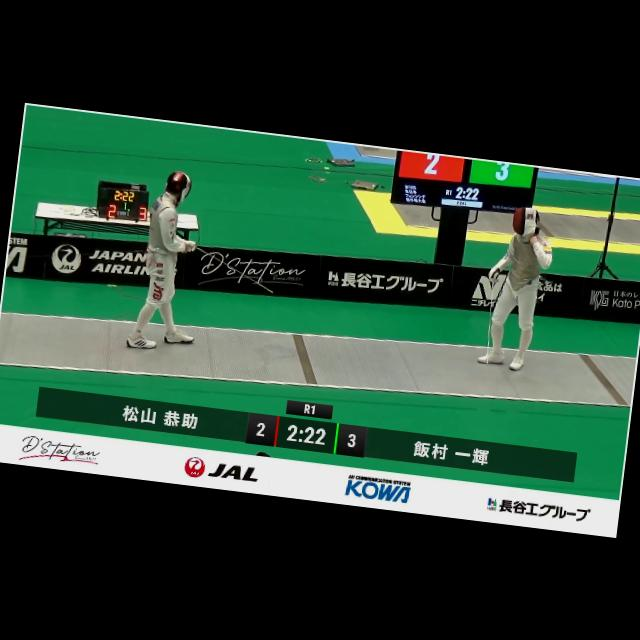blade: (183, 240, 282, 296), (469, 264, 506, 369)
